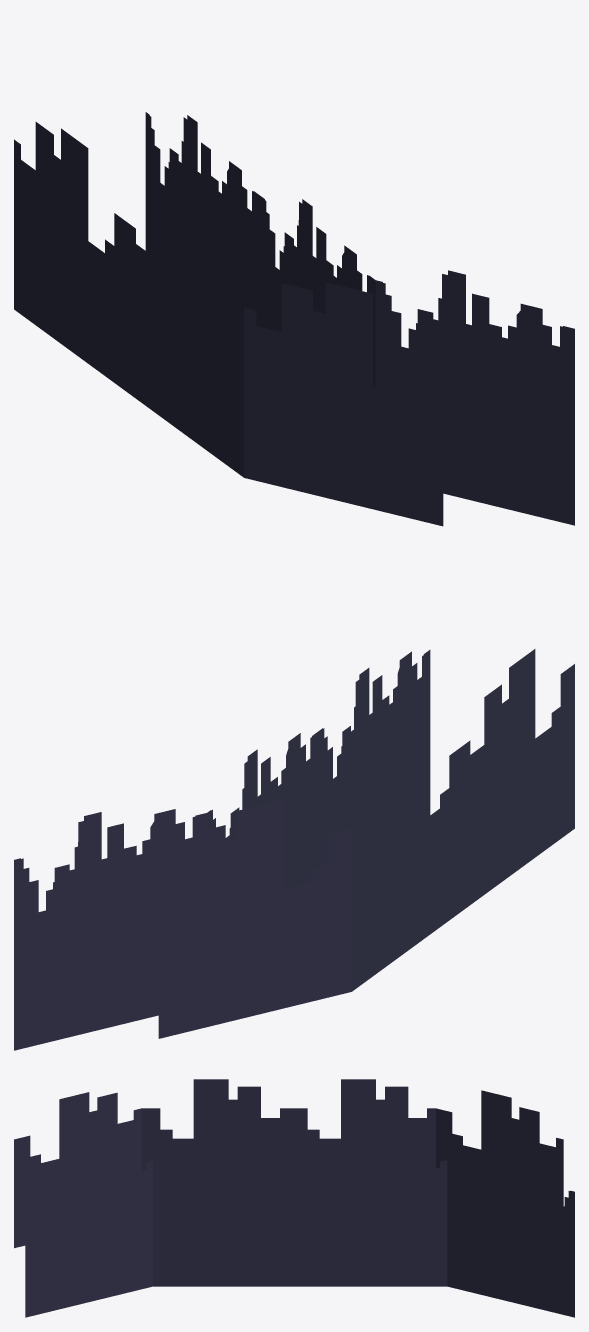
File: SM_Skyline.fbx
3 renders of one model, top to bottom at view 1: azimuth 30°, elevation 25°; view 2: azimuth 150°, elevation 25°; view 3: azimuth 270°, elevation 25°, orthographic. The views are drawn at different scales.
Parts seen in each view (by area): view 1: SM_Background_City_01__3_, SM_Background_City_02__2_, SM_Background_City_01, SM_Background_City_01__1_, SM_Background_City_02, SM_Background_City_02__1_; view 2: SM_Background_City_01__2_, SM_Background_City_02__3_, SM_Background_City_01__1_, SM_Background_City_01, SM_Background_City_02__1_, SM_Background_City_02; view 3: SM_Background_City_02, SM_Background_City_02__1_, SM_Background_City_02__3_, SM_Background_City_02__2_, SM_Background_City_01__1_, SM_Background_City_01, SM_Background_City_01__3_, SM_Background_City_01__2_.
Part boxes in pixels (x1,y1,x2,y2): SM_Background_City_01__3_: [244, 282, 443, 526]; SM_Background_City_02__2_: [375, 270, 574, 525]; SM_Background_City_01: [14, 122, 128, 393]; SM_Background_City_01__1_: [129, 206, 243, 477]; SM_Background_City_02: [145, 112, 260, 336]; SM_Background_City_02__1_: [260, 196, 375, 386]; SM_Background_City_01__2_: [158, 799, 351, 1038]; SM_Background_City_02__3_: [14, 809, 207, 1050]; SM_Background_City_01__1_: [463, 649, 574, 909]; SM_Background_City_01: [352, 730, 463, 991]; SM_Background_City_02__1_: [318, 650, 430, 867]; SM_Background_City_02: [207, 731, 318, 889]; SM_Background_City_02: [300, 1143, 447, 1286]; SM_Background_City_02__1_: [153, 1143, 300, 1286]; SM_Background_City_02__3_: [447, 1158, 574, 1317]; SM_Background_City_02__2_: [25, 1154, 152, 1317]; SM_Background_City_01__1_: [141, 1079, 288, 1198]; SM_Background_City_01: [288, 1079, 435, 1198]; SM_Background_City_01__3_: [14, 1092, 141, 1248]; SM_Background_City_01__2_: [436, 1090, 563, 1225].
Size of the model in its own units: 4719 by 4799 by 14924.
